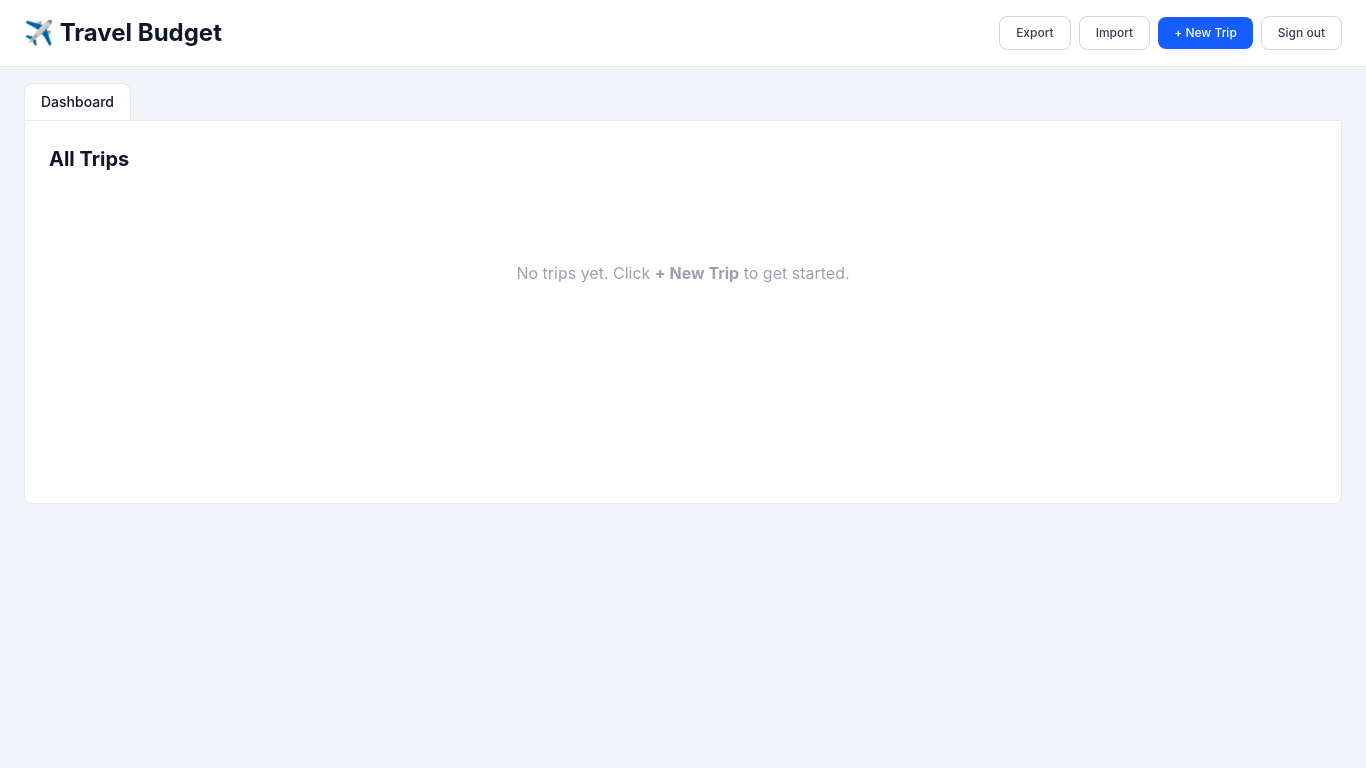
Test: App trip templates › removes the new trip and reports an error when template seeding fails
Expected: the text "No trips yet. Click + New Trip to get started." is shown, [516, 263, 850, 283]
Click the button "+ New Trip" at (1206, 33), box [1158, 17, 1253, 49]
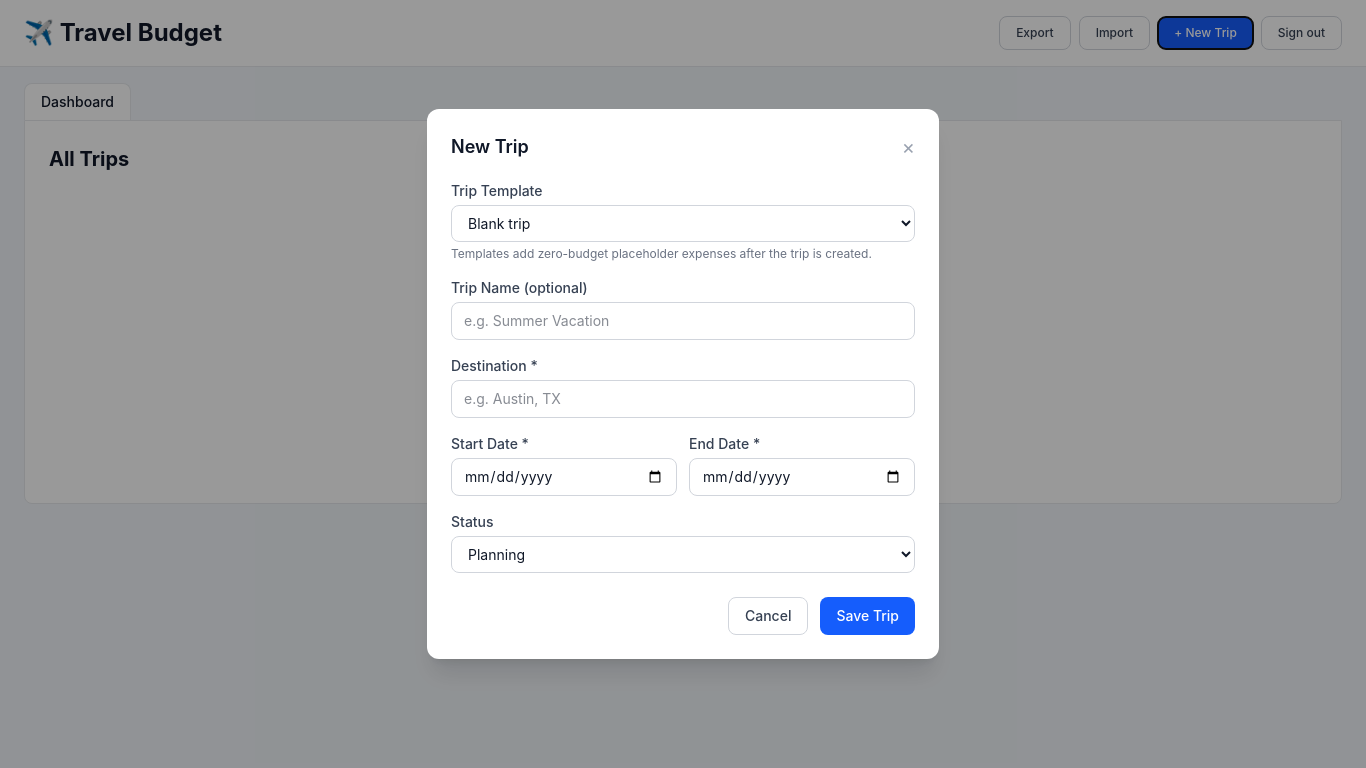
Select "International" in the dropdown labelled "Trip Template" at (683, 224), box [451, 205, 915, 242]
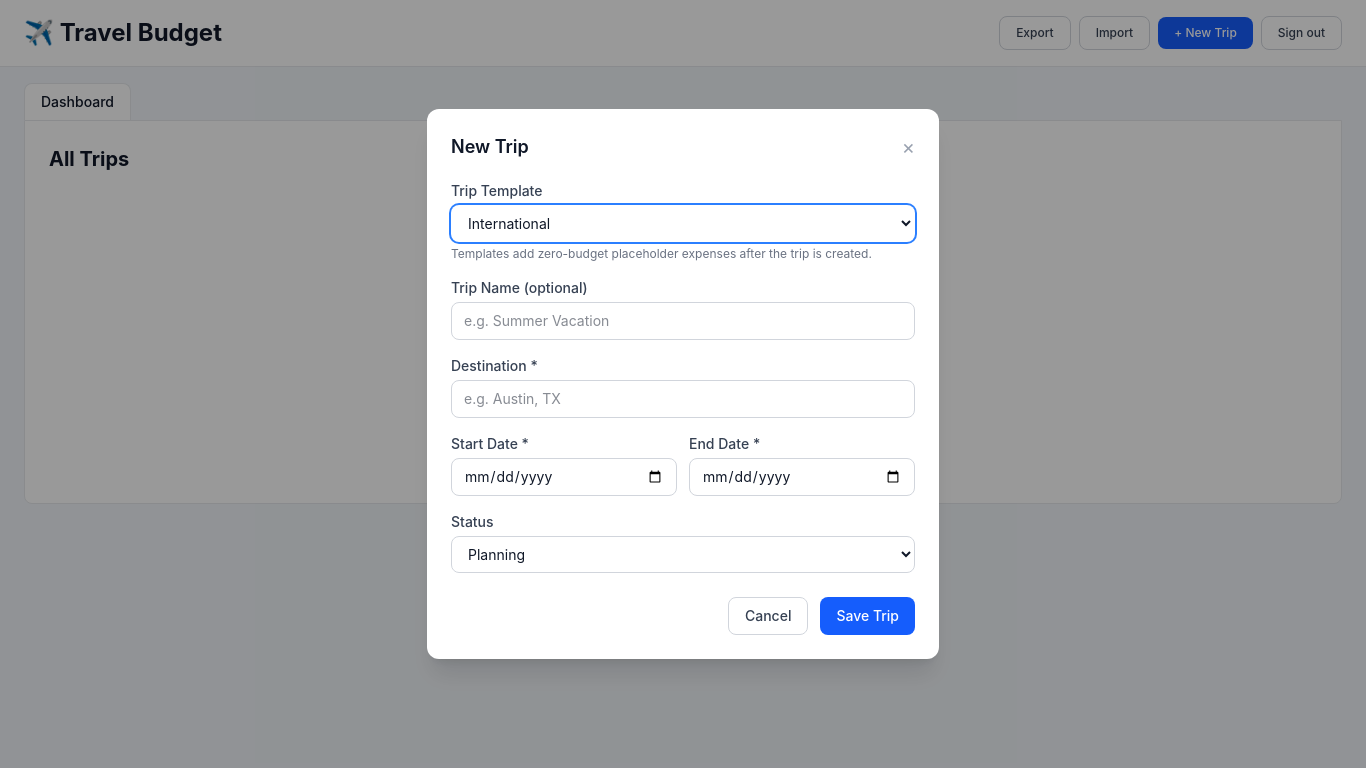
Type "Paris, France" into the field with placeholder "e.g. Austin, TX" at (683, 399), box [451, 380, 915, 418]
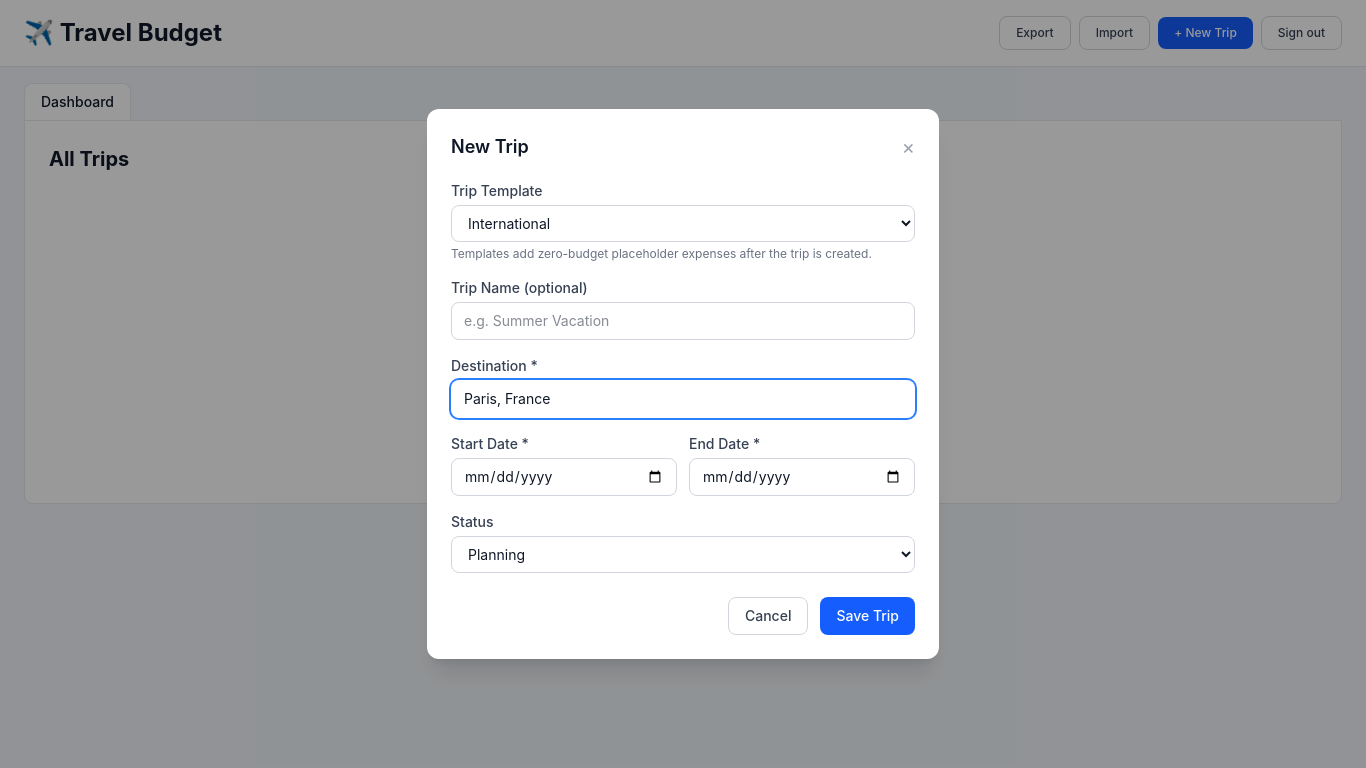
Type "2026-07-01" into the date field labelled "Start Date *" at (564, 477), box [451, 458, 677, 496]
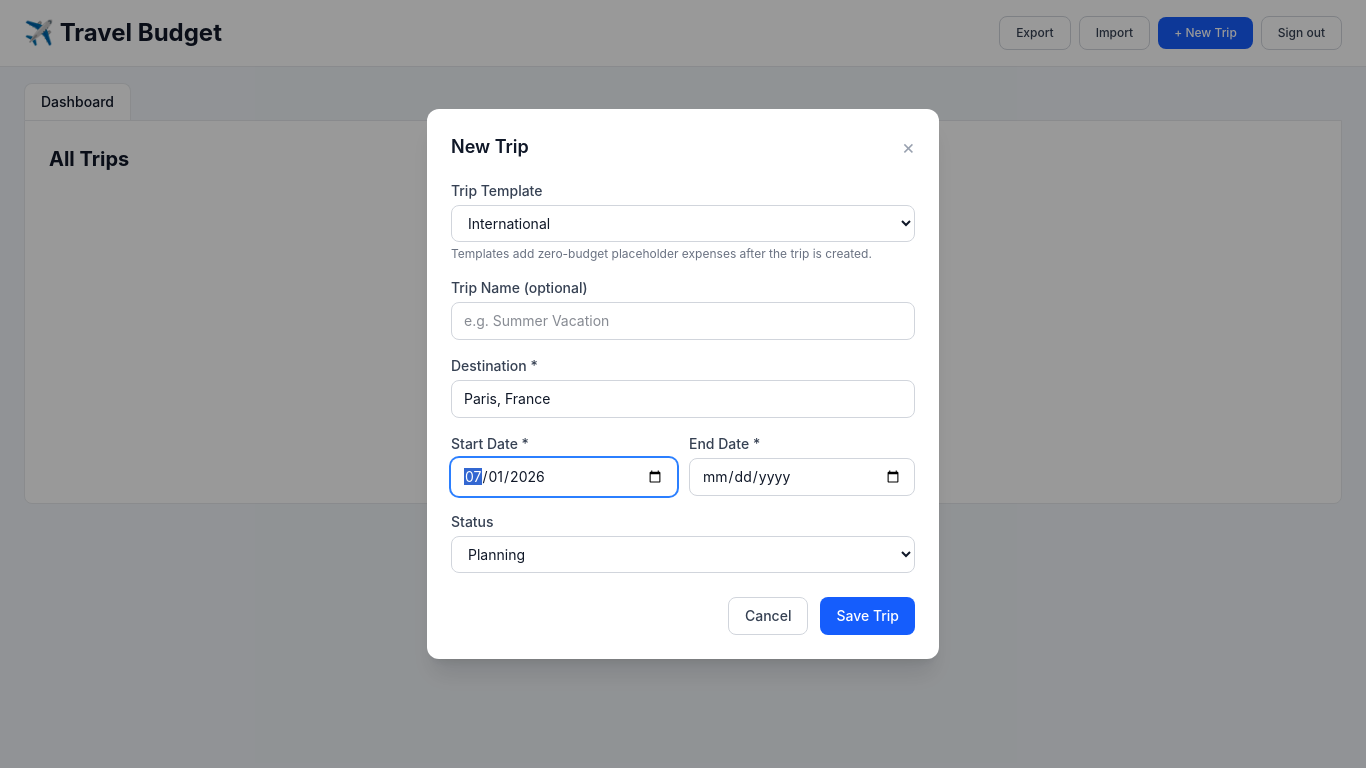
Type "2026-07-12" into the date field labelled "End Date *" at (802, 477), box [689, 458, 915, 496]
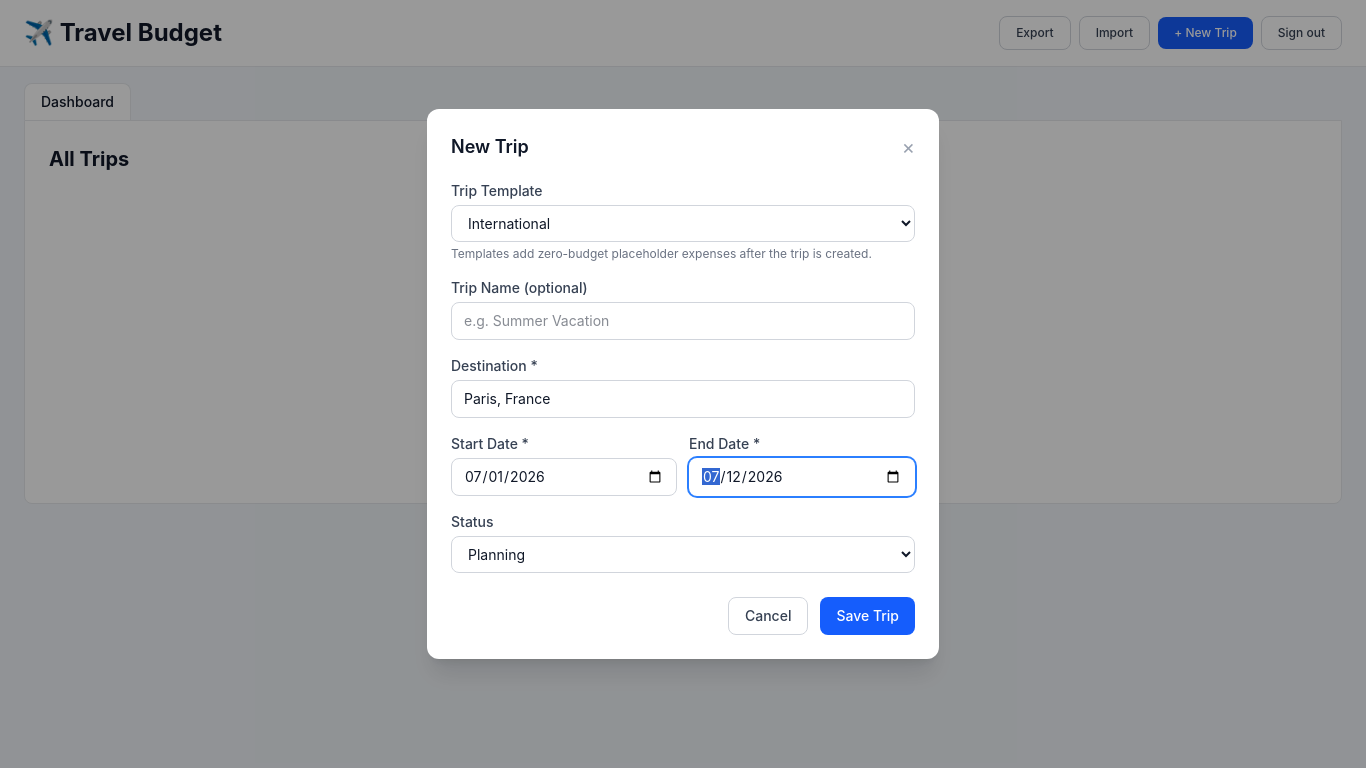
Click the button "Save Trip" at (868, 616), box [820, 597, 915, 635]
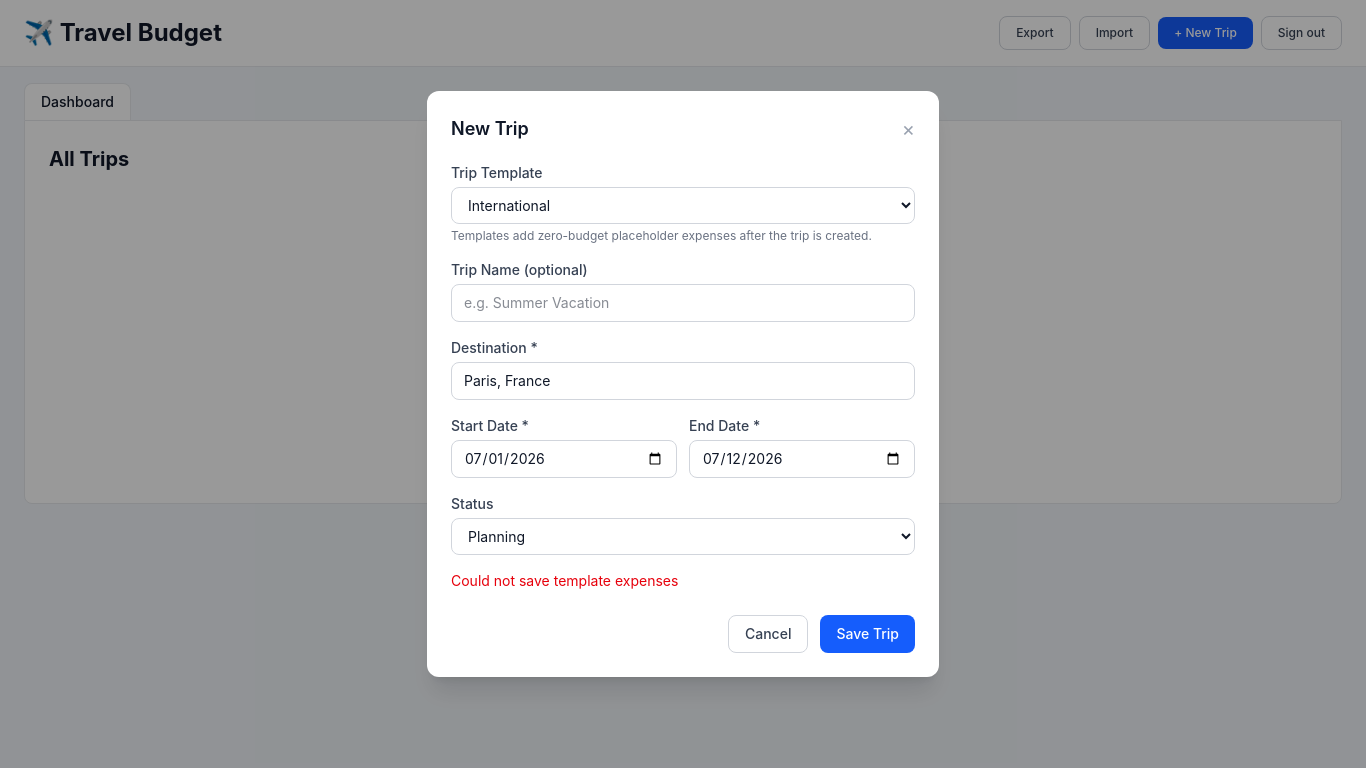
Now the message reads "Could not save template expenses", box [451, 572, 678, 589]
